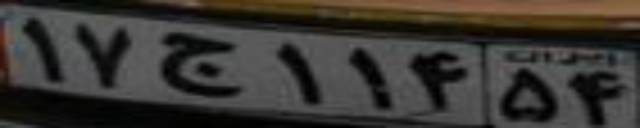1: (275, 40, 325, 104), (18, 16, 62, 83), (346, 45, 391, 108)
4: (407, 49, 472, 112), (566, 69, 629, 124)
5: (494, 66, 559, 123)
7: (71, 19, 137, 90)
jim: (154, 31, 244, 98)
